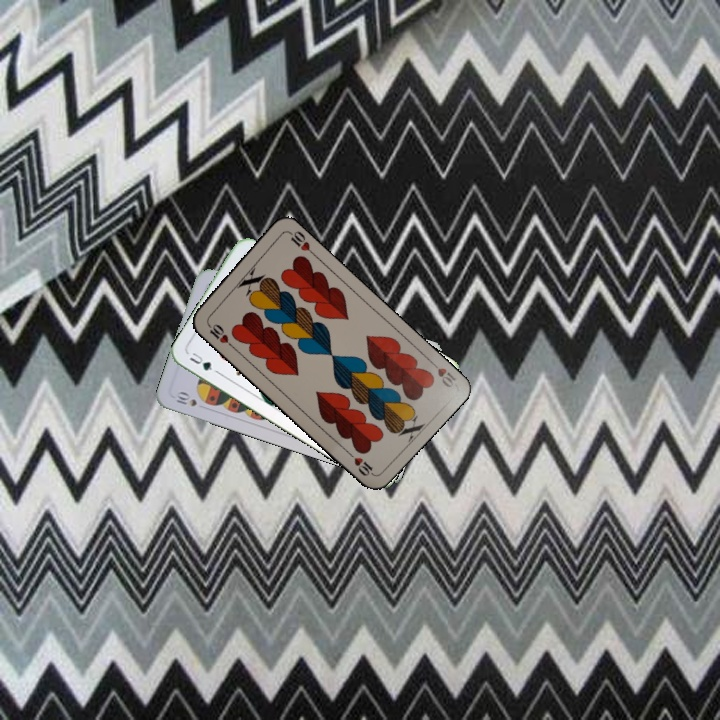GU: (185, 348, 221, 376)
H10: (425, 356, 459, 390), (203, 318, 236, 350)
S10: (172, 387, 199, 409)
